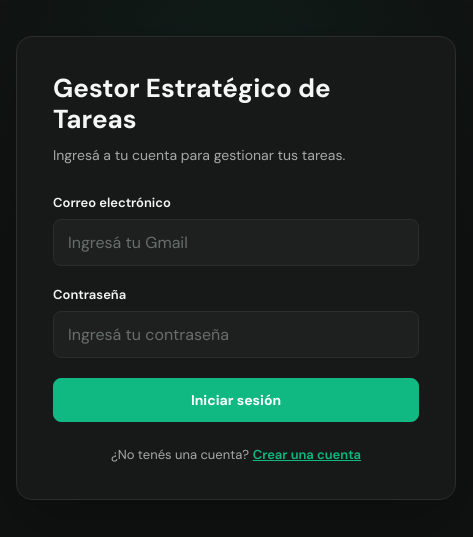
Test case: Login Component › 4. Error durante el login: muestra mensaje de error y no navega a /tareas
This screenshot has width=473, height=537.
Type "user@example.com" into the field labelled "Correo electrónico" at (236, 243), box [53,219,419,266]
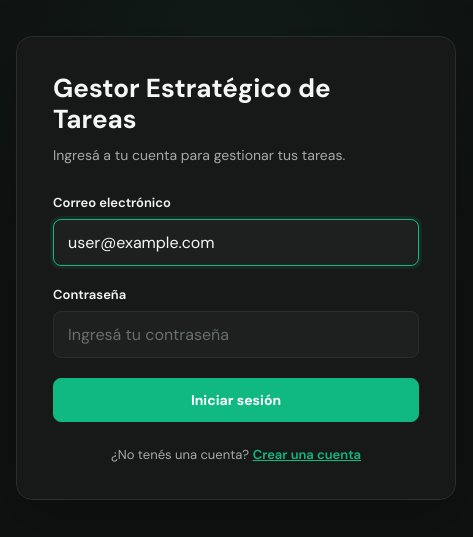
Type "password123" into the password field labelled "Contraseña" at (236, 335), box [53,311,419,358]
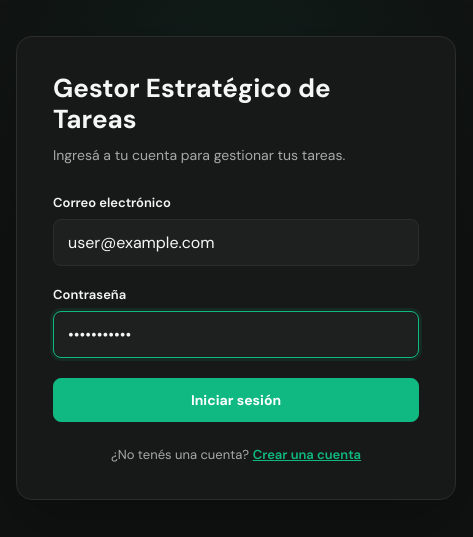
Click the button "Iniciar sesión" at (236, 400), box [53,378,419,422]
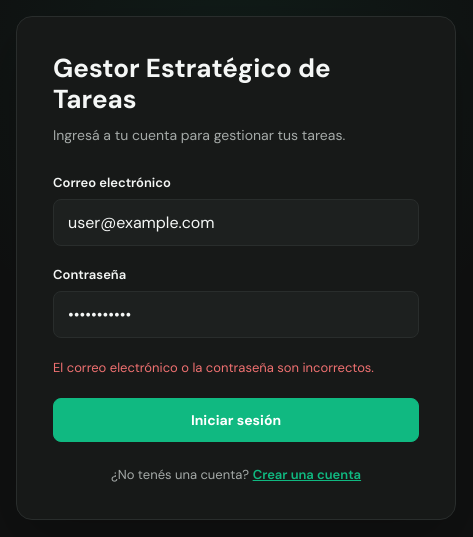
expect the text "El correo electrónico o la contraseña son incorrectos." is shown: met, box [53,358,419,378]
